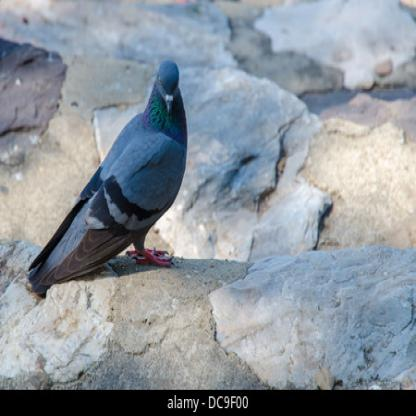Flying Rat: (32, 60, 185, 306)
